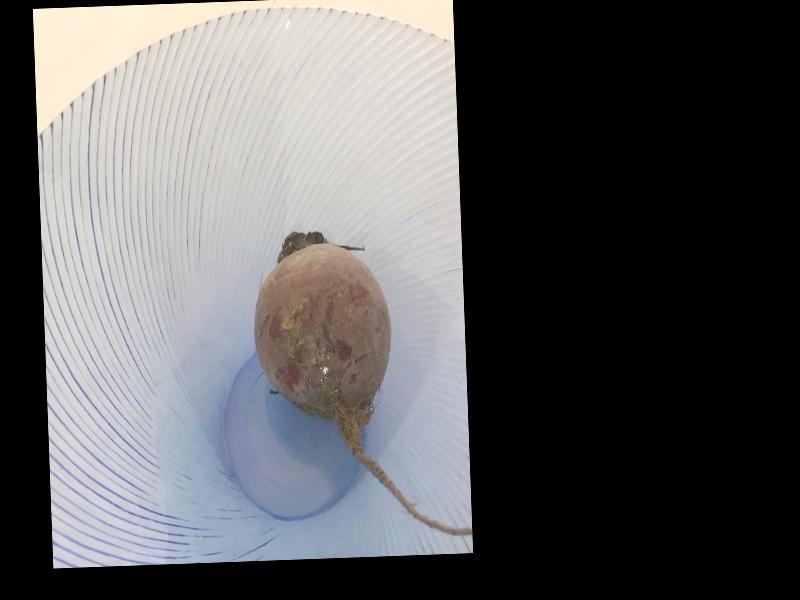Beet: (250, 223, 472, 542)
